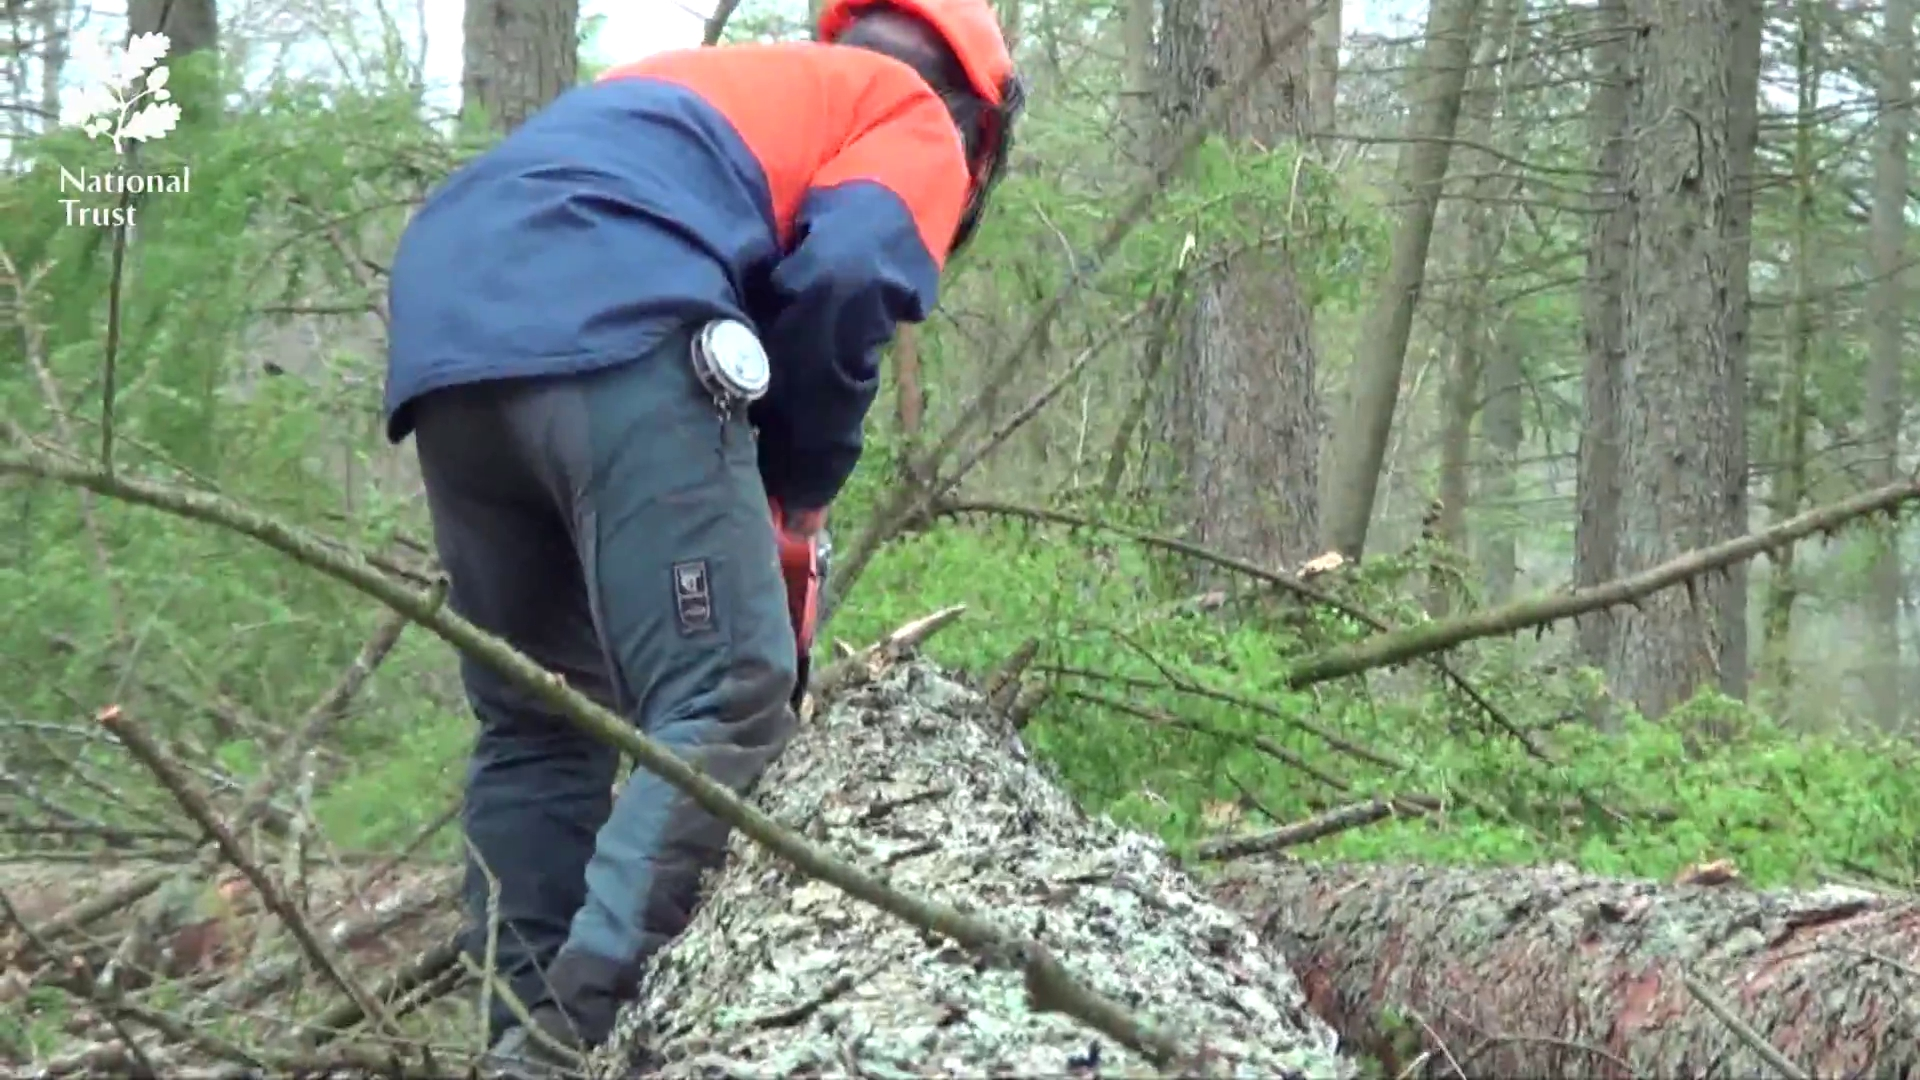person: (383, 1, 1026, 1080)
